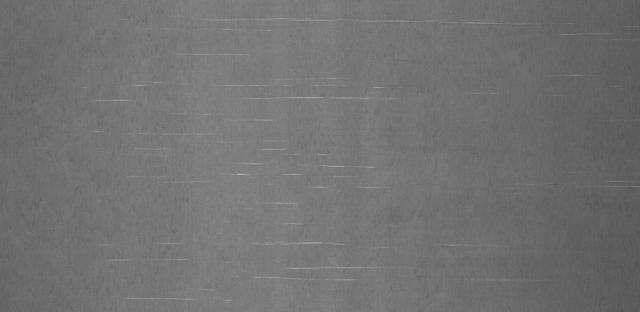waist_folding: (78, 15, 582, 292)
